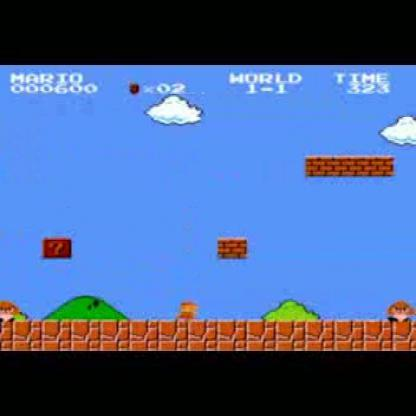Goomba: (384, 296, 414, 323), (0, 295, 21, 323)
